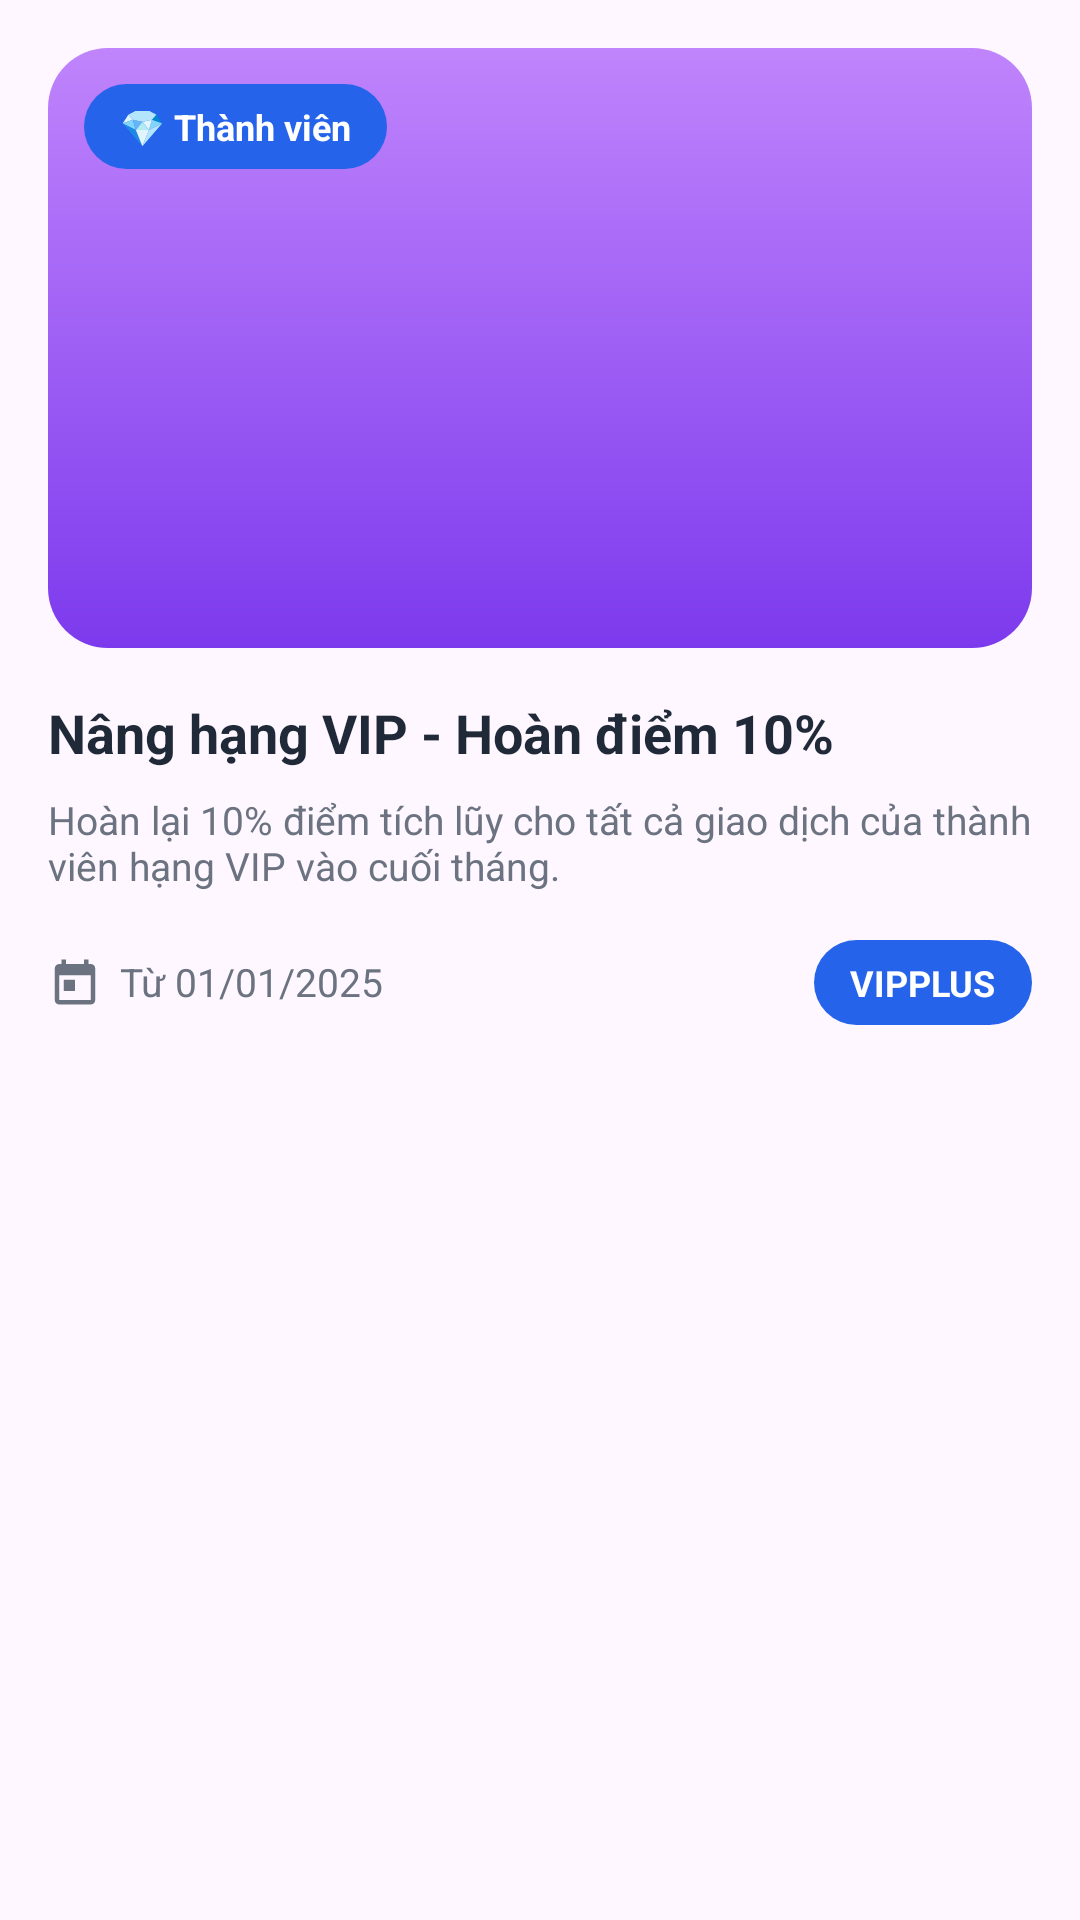

Icon bounding boxes for this 1080*1920 phone screenshot, format bbox(x1, y1, x2, y2):
calendar: bbox(54, 959, 96, 1005)
